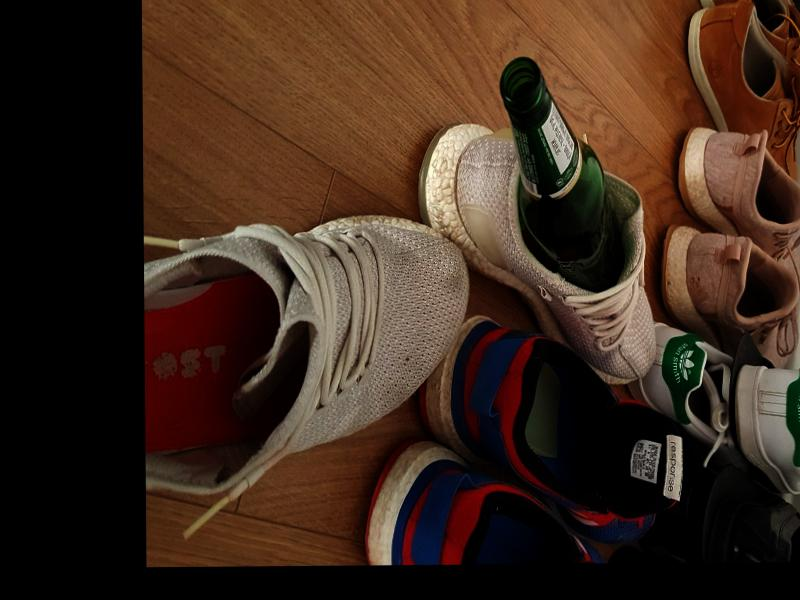Beer: (499, 56, 628, 294)
